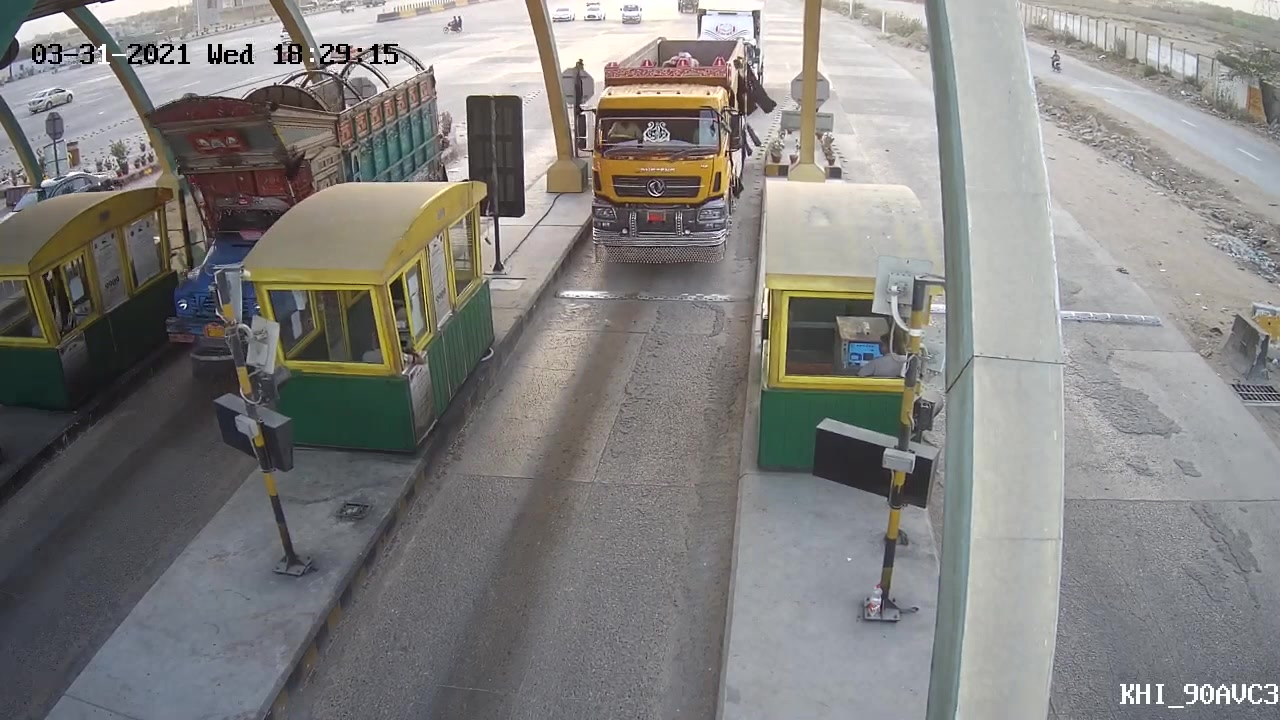F6: (570, 36, 768, 274)
